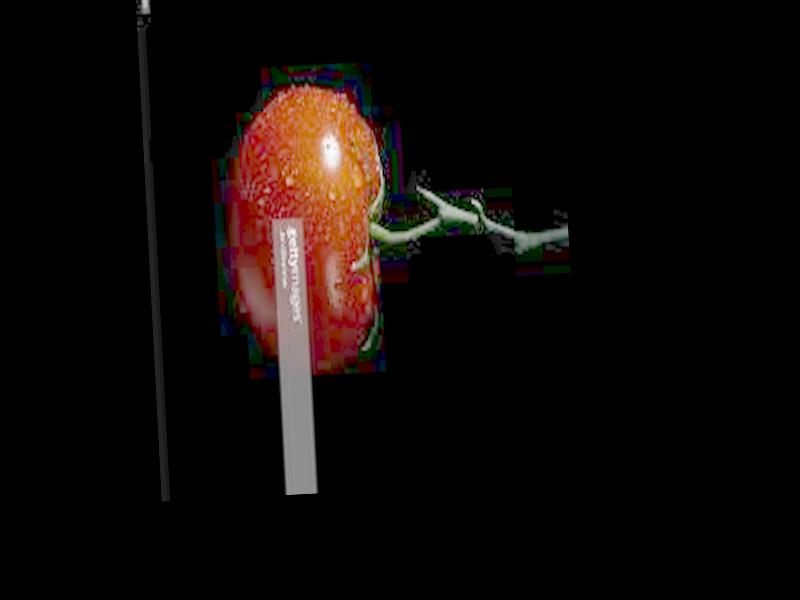Tomato: (228, 84, 387, 365)
